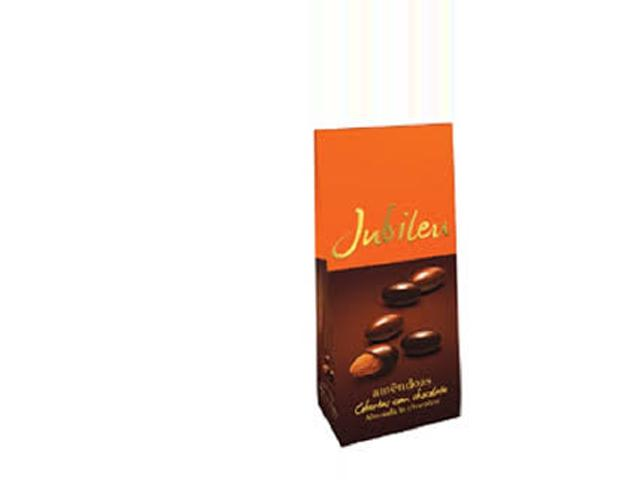chocolate: (305, 124, 478, 442)
